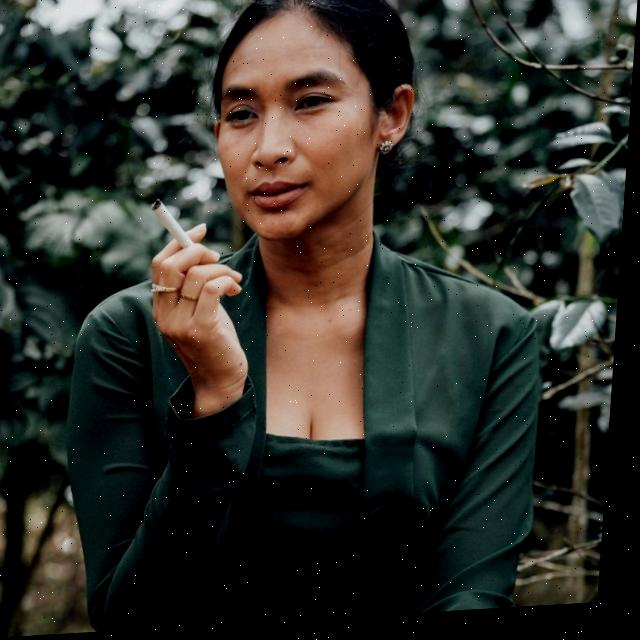cigarette: (151, 200, 200, 253)
